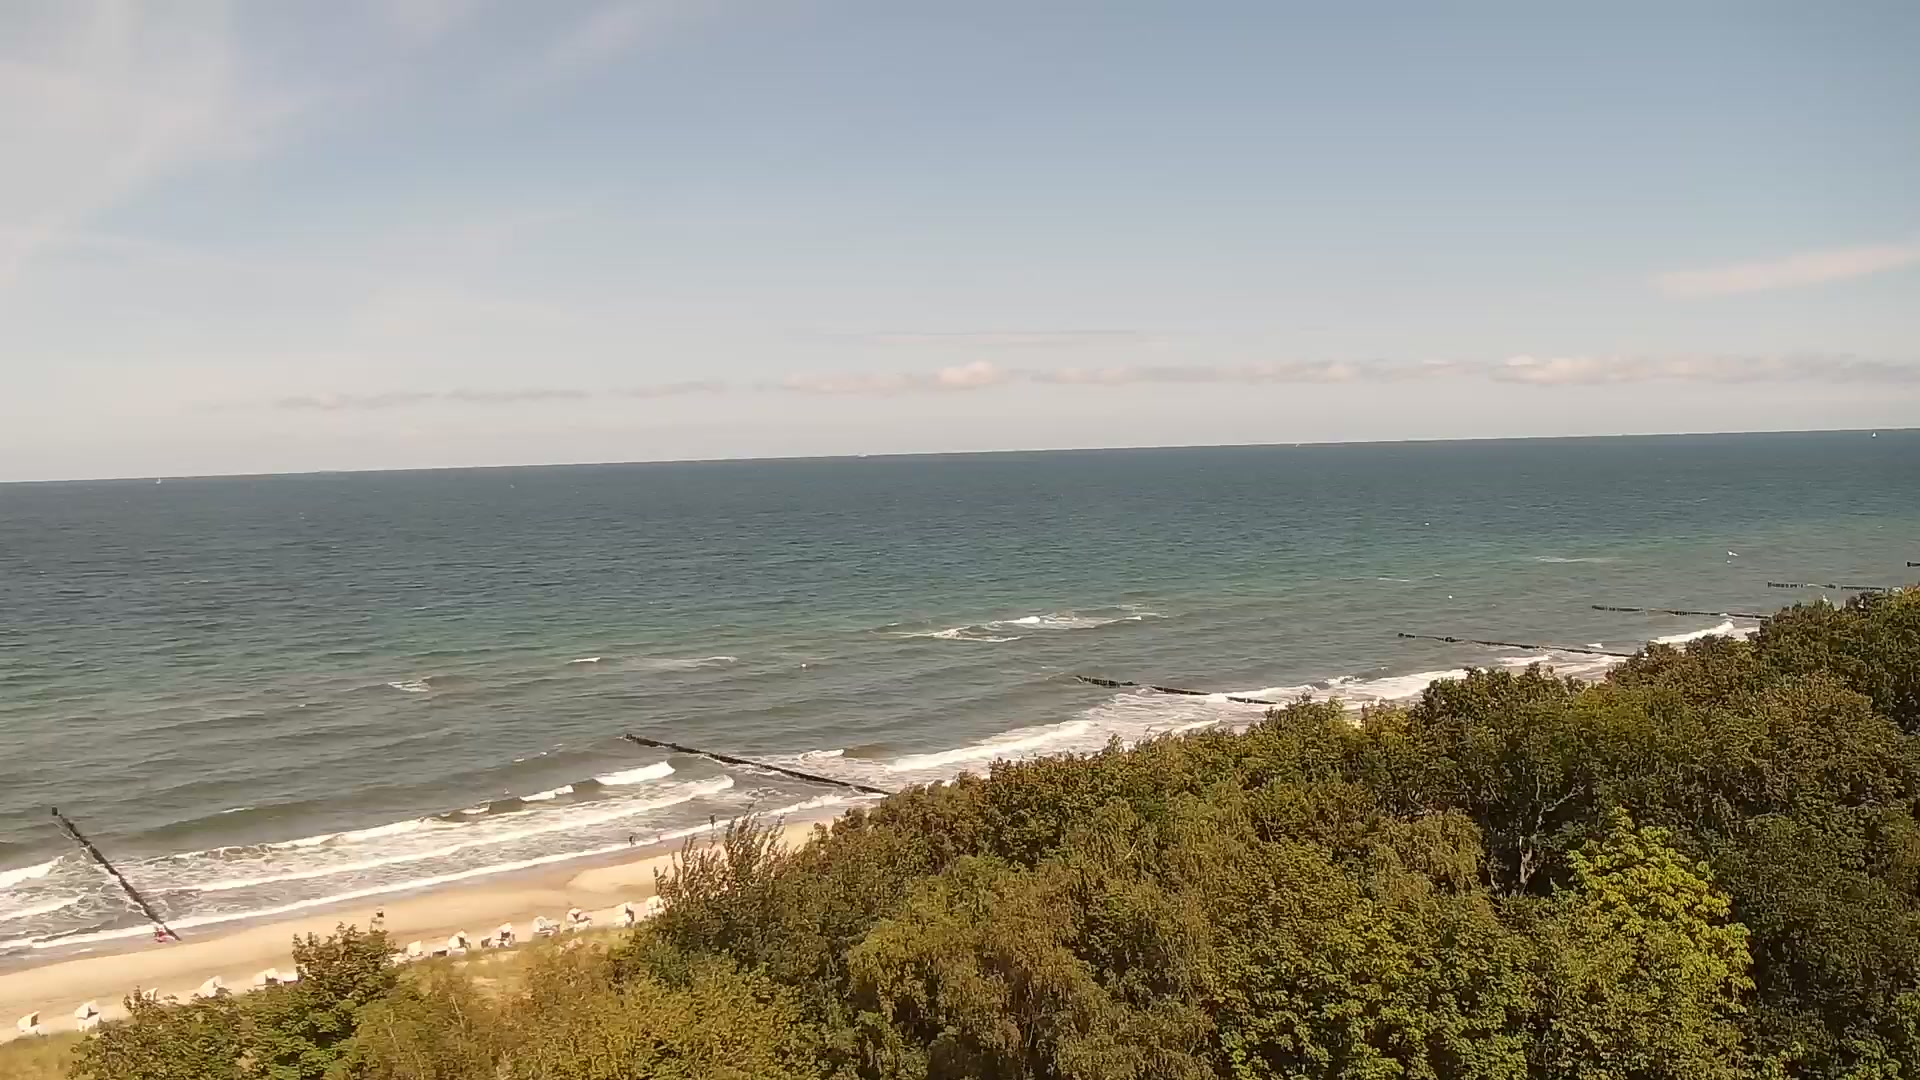human: (709, 812, 716, 829), (628, 833, 634, 847)
sea: (155, 477, 161, 485), (1871, 431, 1876, 437)
